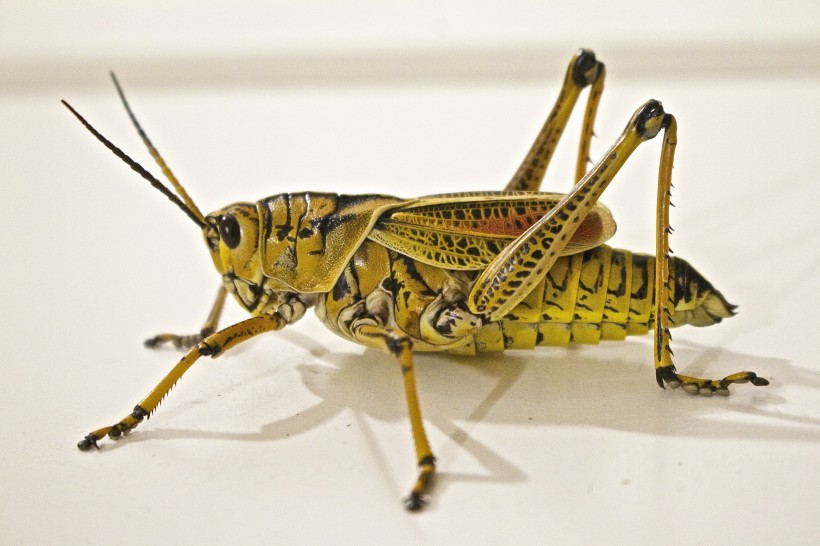huangchong: (104, 88, 751, 443)
